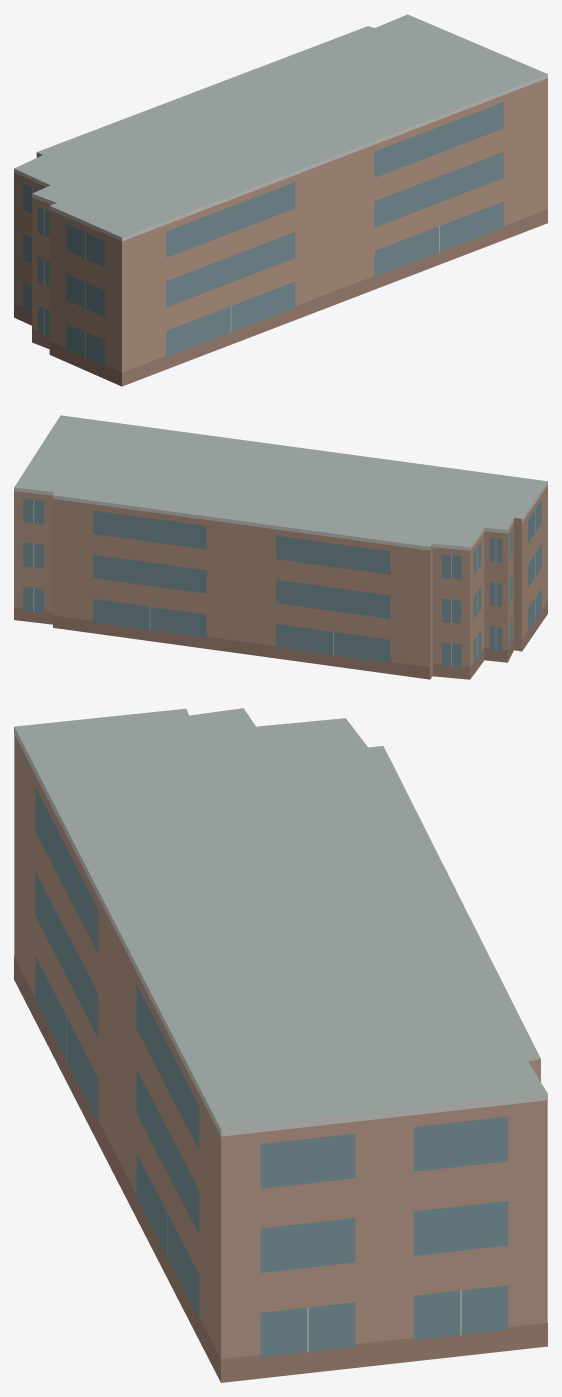
File: survey-upis-32813366.glb
3 views of the same model, one above another, from view 1: azimuth 30°, elevation 25°; view 2: azimuth 150°, elevation 25°; view 3: azimuth 270°, elevation 25° (orthographic). The views are drawn at different scales.
Parts seen in each view (by area): view 1: survey-upis-32813366.tmp; view 2: survey-upis-32813366.tmp; view 3: survey-upis-32813366.tmp.
Part boxes in pixels (x1,y1,x2,y2): survey-upis-32813366.tmp: (14,14,547,386); survey-upis-32813366.tmp: (14,415,547,679); survey-upis-32813366.tmp: (14,708,547,1382).
Bounding box in the file's own units: 32.73 × 9.15 × 17.51.
